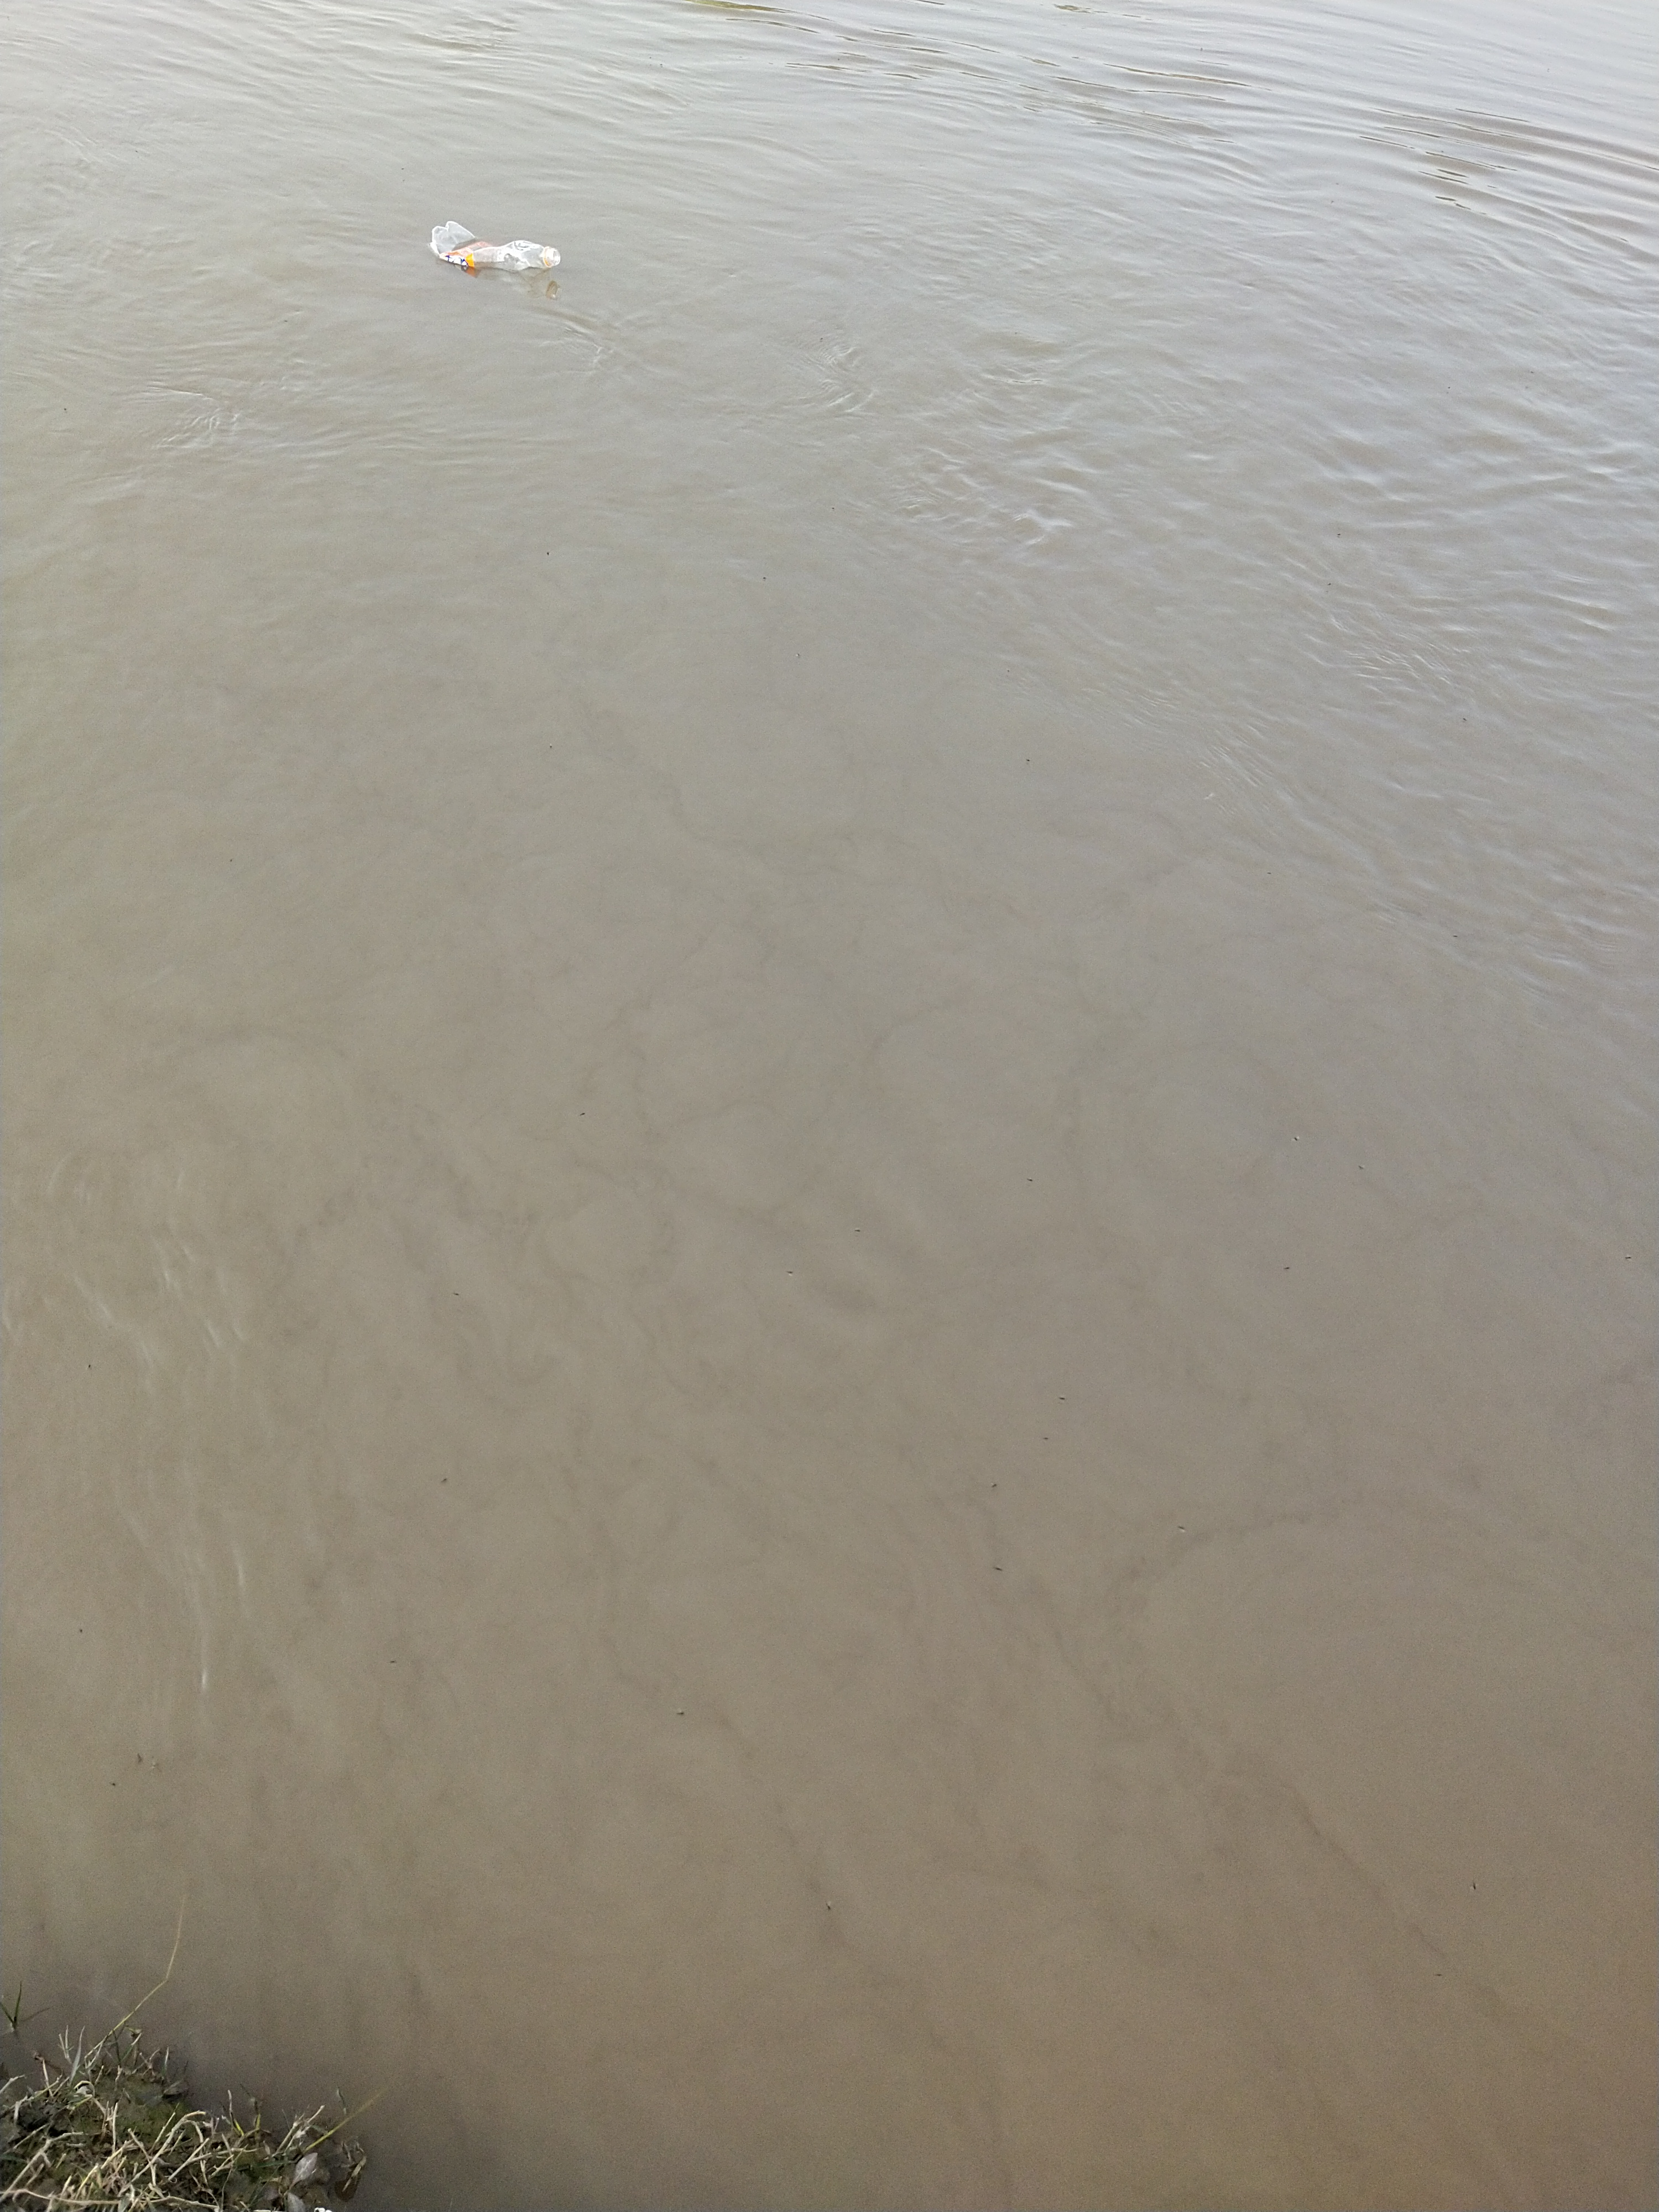Plastic Bottle: (427, 219, 561, 272)
